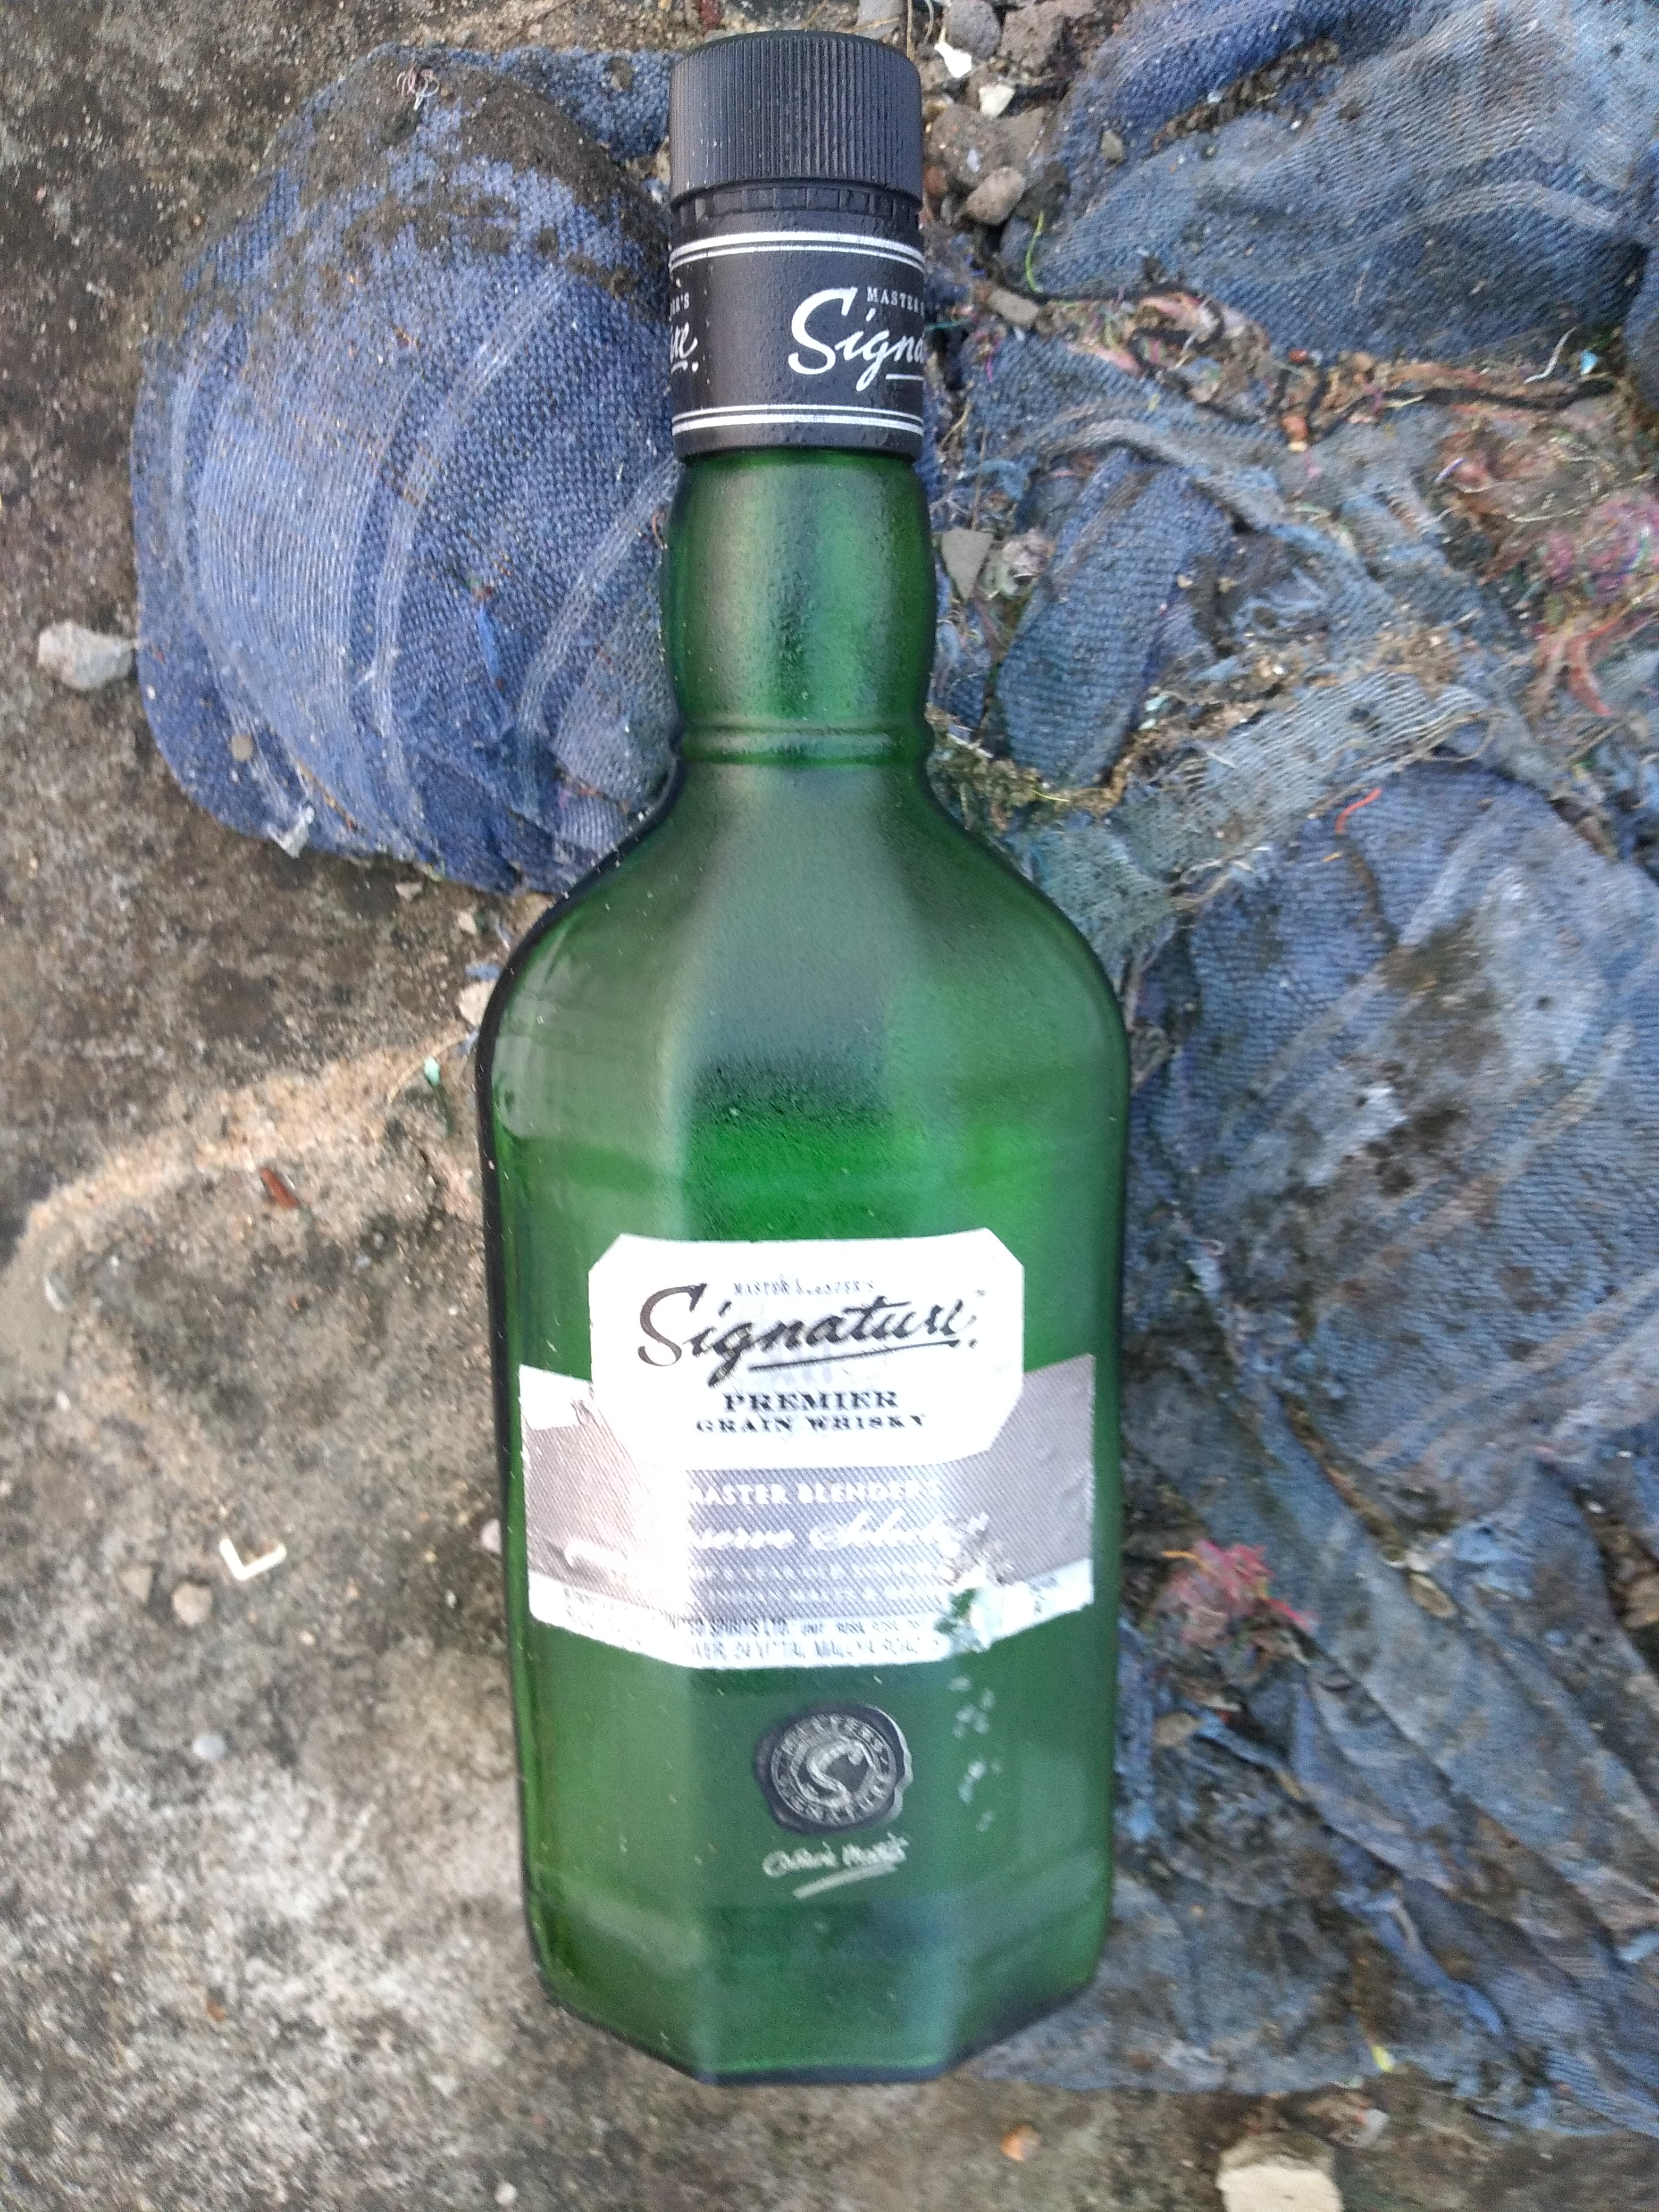glass_bottle: (437, 23, 1176, 2114)
